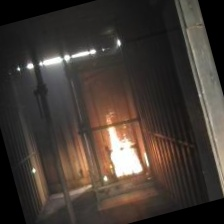fire: (95, 108, 152, 183)
